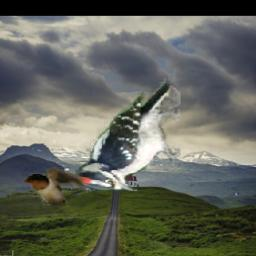Swallow: (24, 168, 86, 207)
Woodpecker: (74, 79, 180, 195)
